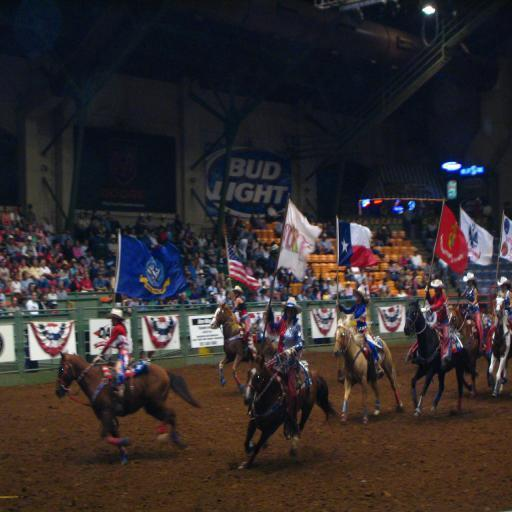horse: (54, 348, 203, 466), (242, 351, 340, 472), (400, 298, 472, 418), (332, 316, 404, 426), (210, 302, 278, 394), (448, 305, 492, 397), (487, 294, 512, 398)
